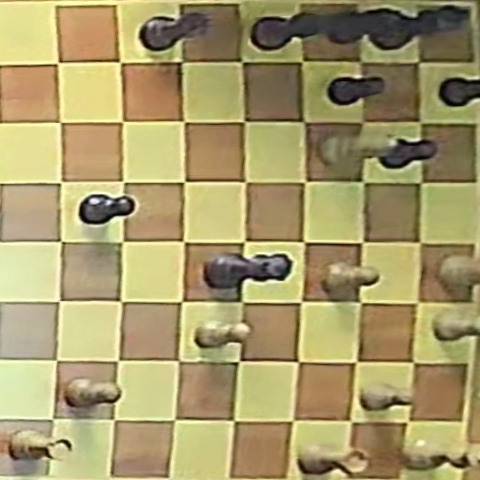black-bishop: (326, 6, 402, 47)
black-king: (365, 5, 473, 54)
black-pawn: (379, 138, 439, 169), (327, 75, 385, 106), (80, 194, 135, 225), (440, 76, 480, 107)
black-queen: (204, 253, 290, 290)
black-rook: (248, 11, 322, 51), (140, 11, 212, 51)
white-bishop: (318, 132, 399, 169)
white-king: (402, 440, 478, 470)
white-pawn: (322, 262, 379, 299), (65, 377, 121, 408), (433, 308, 479, 341), (195, 322, 251, 349), (362, 382, 413, 409)
white-queen: (438, 254, 479, 294)
white-rook: (299, 444, 369, 475), (6, 430, 72, 461)
